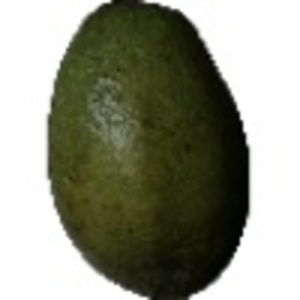abacate: (44, 2, 253, 294)
